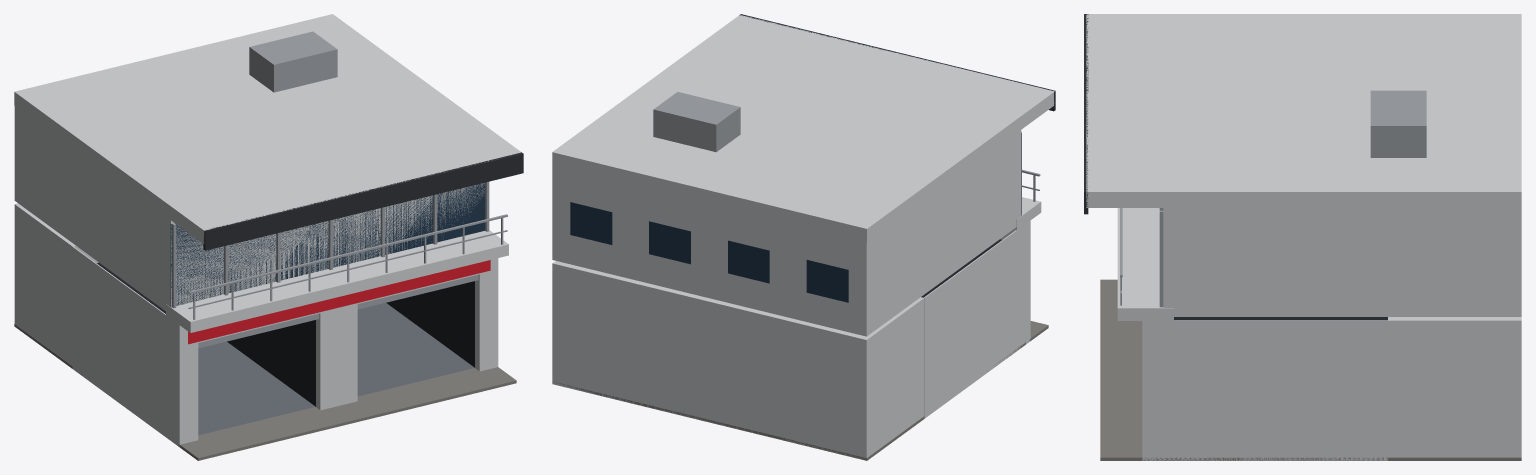
File: garage.glb
3 views of the same model, side by side, from view 1: azimuth 30°, elevation 25°; view 2: azimuth 150°, elevation 25°; view 3: azimuth 270°, elevation 25° (orthographic). The views are drawn at different scales.
Parts seen in each view (by area): view 1: garage; view 2: garage; view 3: garage.
Boxes of the visible parts, x1=… form: garage: x1=14, y1=14, x2=523, y2=460; garage: x1=552, y1=14, x2=1055, y2=460; garage: x1=1084, y1=14, x2=1521, y2=460.
Bounding box in the file's own units: 12 × 9.45 × 12.47.
